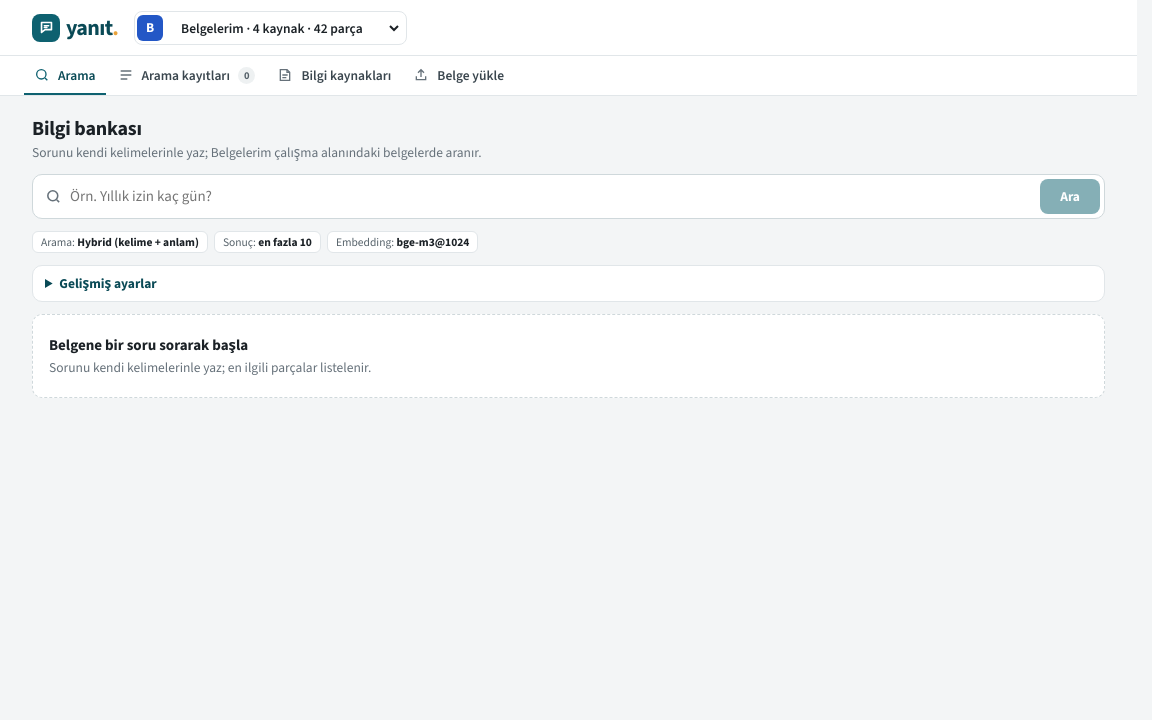
Test: SearchPage › givenSearchSucceeded_whenResultsShown_thenPopularQueriesRefetchedWithoutReload
Type "Masraf beyanı kaç gün içinde yapılır?" into the field named "Arama metni".
click(551, 196); type("Masraf beyanı kaç gün içinde yapılır?")  # box 70,180 -> 1032,213
Then press Enter
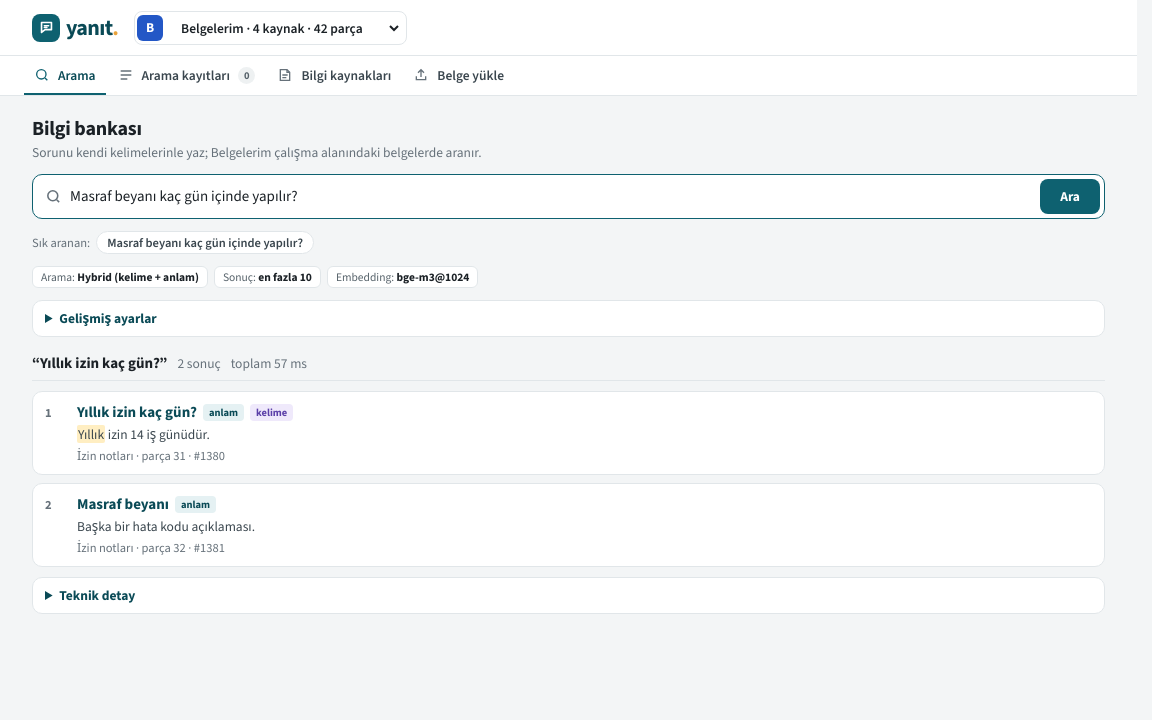
Check: the button "Masraf beyanı kaç gün içinde yapılır?" is shown, box 96,231 -> 314,254
